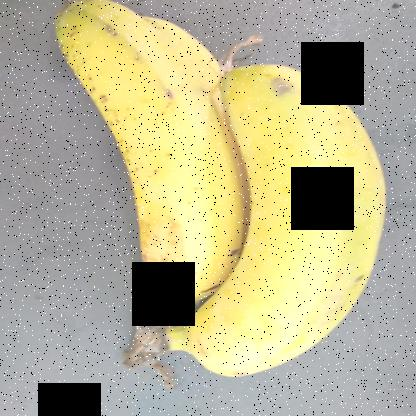freshripe: (193, 36, 390, 387)
ripe: (52, 0, 269, 330)
